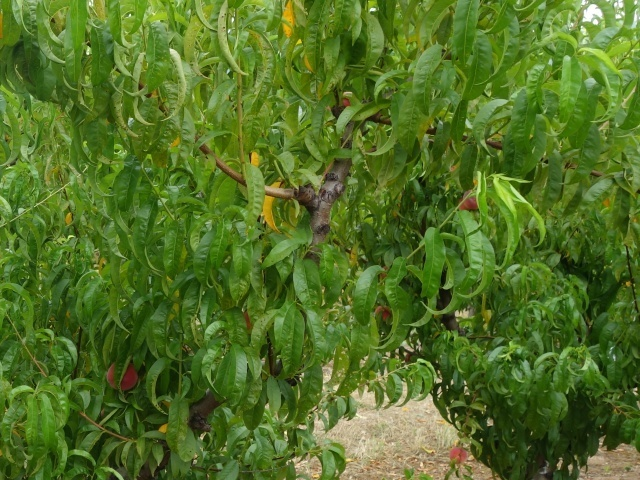peach: (104, 358, 140, 393), (458, 188, 483, 212), (371, 302, 393, 325), (446, 443, 466, 466)
